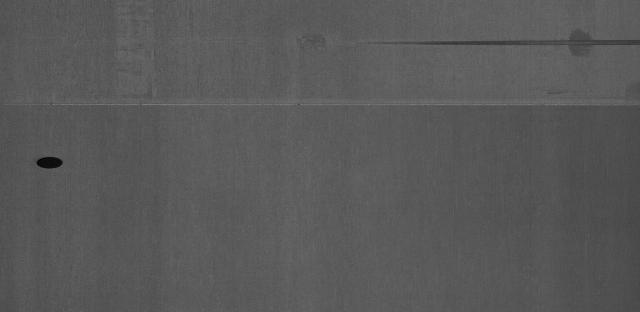oil_spot: (566, 29, 597, 58)
punching_hole: (29, 154, 69, 174)
welding_line: (5, 97, 640, 118)
